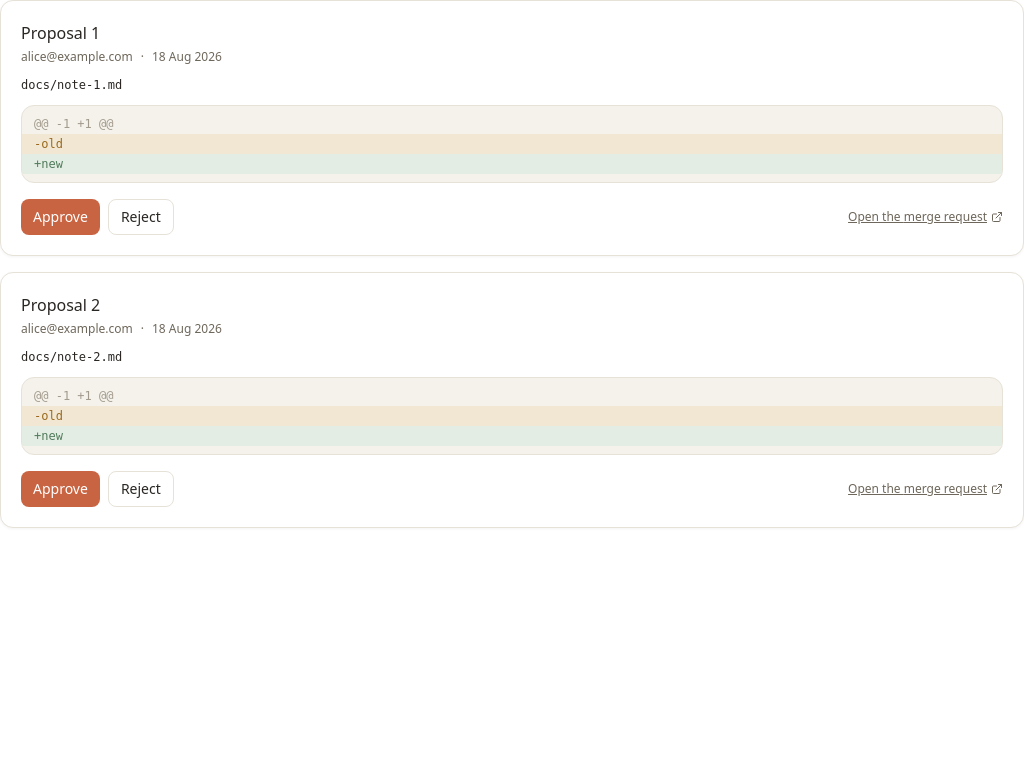
ProposalList › posts the decision and drops the card once it lands
Click the button "Approve" below "docs/note-1.md".
click(60, 217)  # box [21,199,100,235]
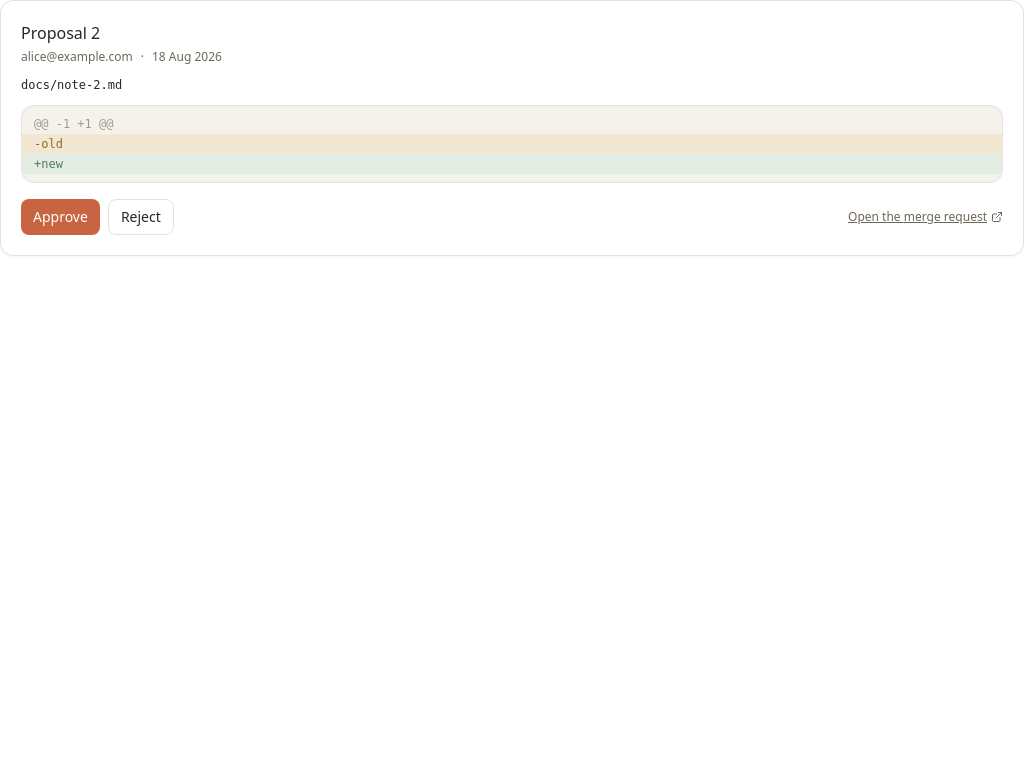
Expected: the heading "Proposal 2" is shown, [21,22,100,44]
Result: the heading "Proposal 1" is gone
